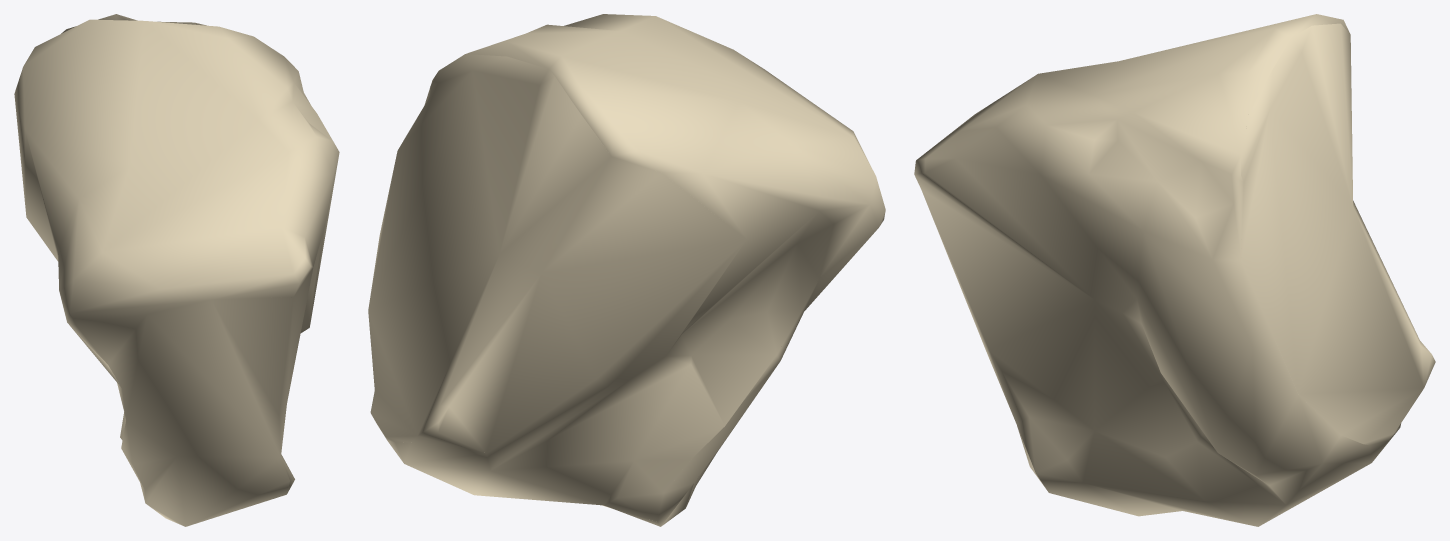
Rendered from esqueleto-intermediate-cuneiform-bone-r.glb.
3 views of the same model, side by side, from view 1: azimuth 30°, elevation 25°; view 2: azimuth 150°, elevation 25°; view 3: azimuth 270°, elevation 25° (orthographic). The views are drawn at different scales.
Parts seen in each view (by area): view 1: Intermediate cuneiform bone.r; view 2: Intermediate cuneiform bone.r; view 3: Intermediate cuneiform bone.r.
Part boxes in pixels (left/top/right/bottom): Intermediate cuneiform bone.r: left=14, top=14, right=339, bottom=526; Intermediate cuneiform bone.r: left=368, top=14, right=885, bottom=526; Intermediate cuneiform bone.r: left=914, top=14, right=1435, bottom=526.
Size of the model in its own units: 0.0195 by 0.024 by 0.023.
